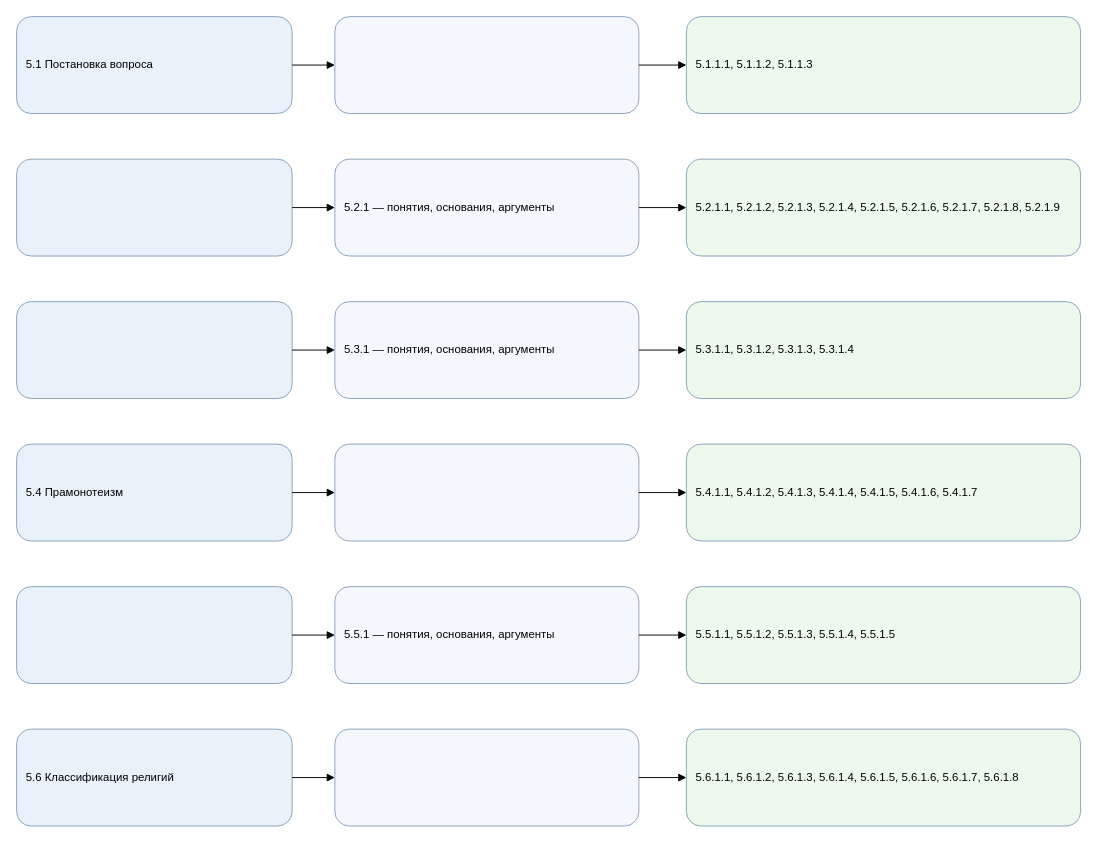
Image size: 1097x843. Some labels were removed from this diagram. The centre of each missing label's shape, as x and y in pixels:
5.1.1 — понятия, основания, аргументы: [486,65]
5.2 Гипотезы происхождения религии: [154,207]
5.3 Христианское объяснение первоначальности религии: [154,350]
5.4.1 — понятия, основания, аргументы: [486,492]
5.5 Причины многообразия религий: [154,635]
5.6.1 — понятия, основания, аргументы: [486,777]
